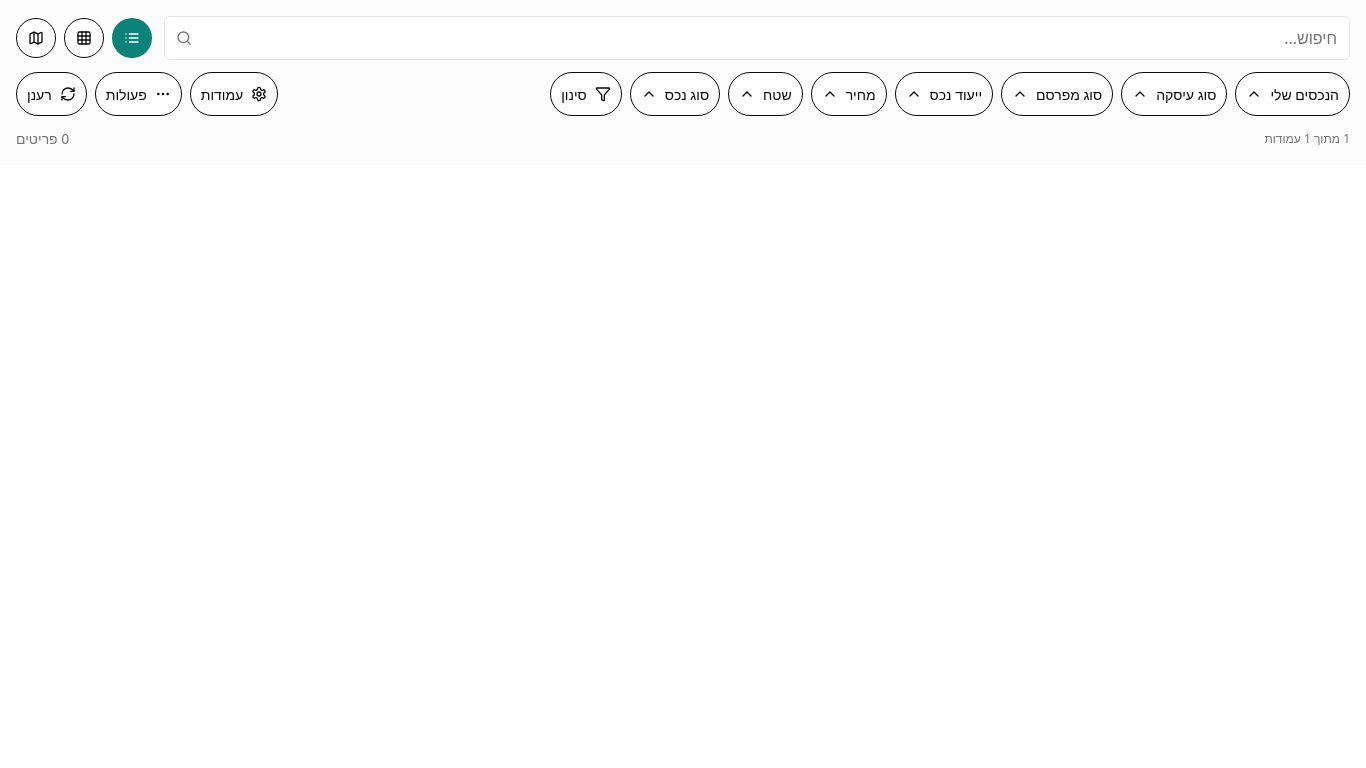
Test: TableToolbar quick filters › organizes the full filters into guided sections
Click the button "סינון".
click(586, 94)  # box [550,72,622,116]
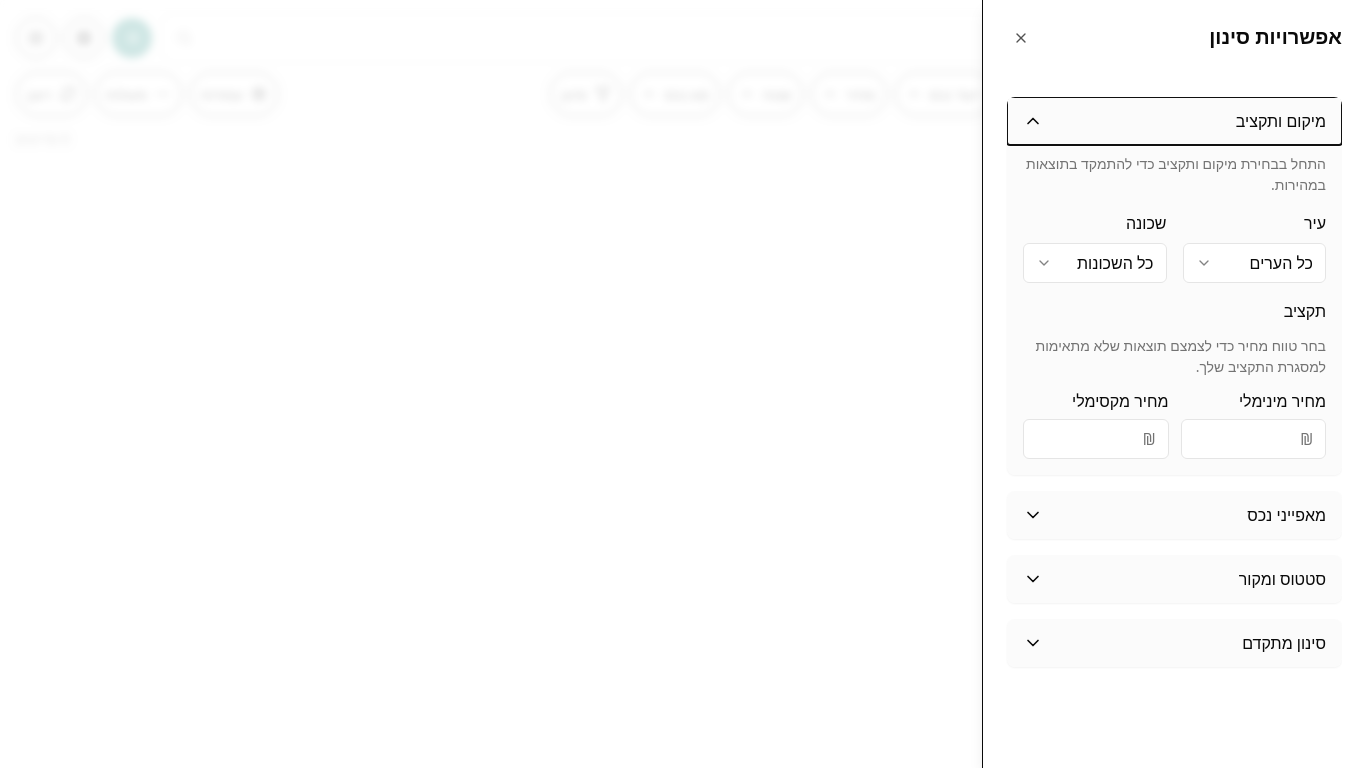
Expected: the text "עיר" is shown, [1304,212,1326,234]
Expected: the number field labelled "מחיר מינימלי" is shown, [1180,419,1326,459]
Expected: the text "שכונה" is shown, [1126,212,1166,234]
Click the button "מאפייני נכס".
click(1287, 515)  # box [1007,491,1342,539]
(page scrolled)
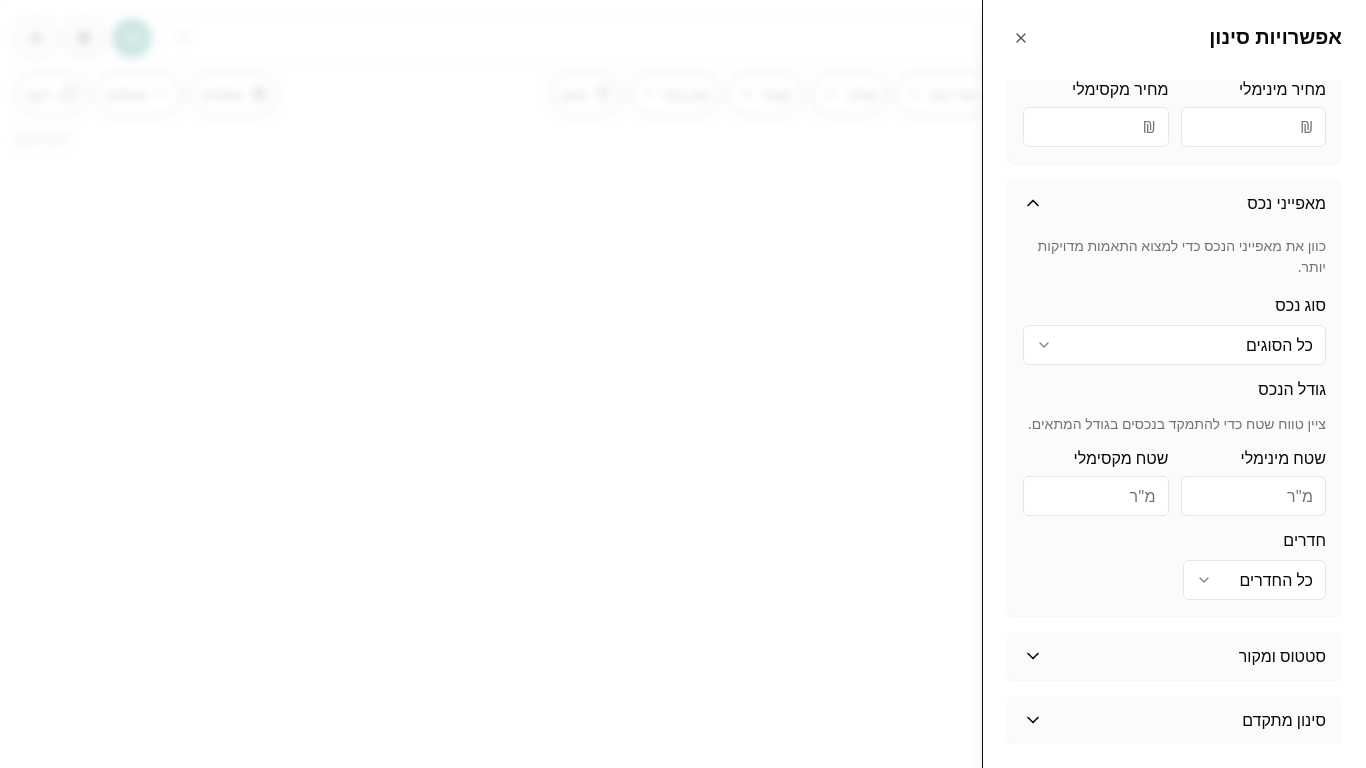
Expected: the button "מאפייני נכס" is expanded, [1007,179,1342,227]
Expected: the text "חדרים" is shown, [1283,529,1326,551]
Click the button "סטטוס ומקור".
click(1282, 656)  # box [1007,632,1342,680]
(page scrolled)
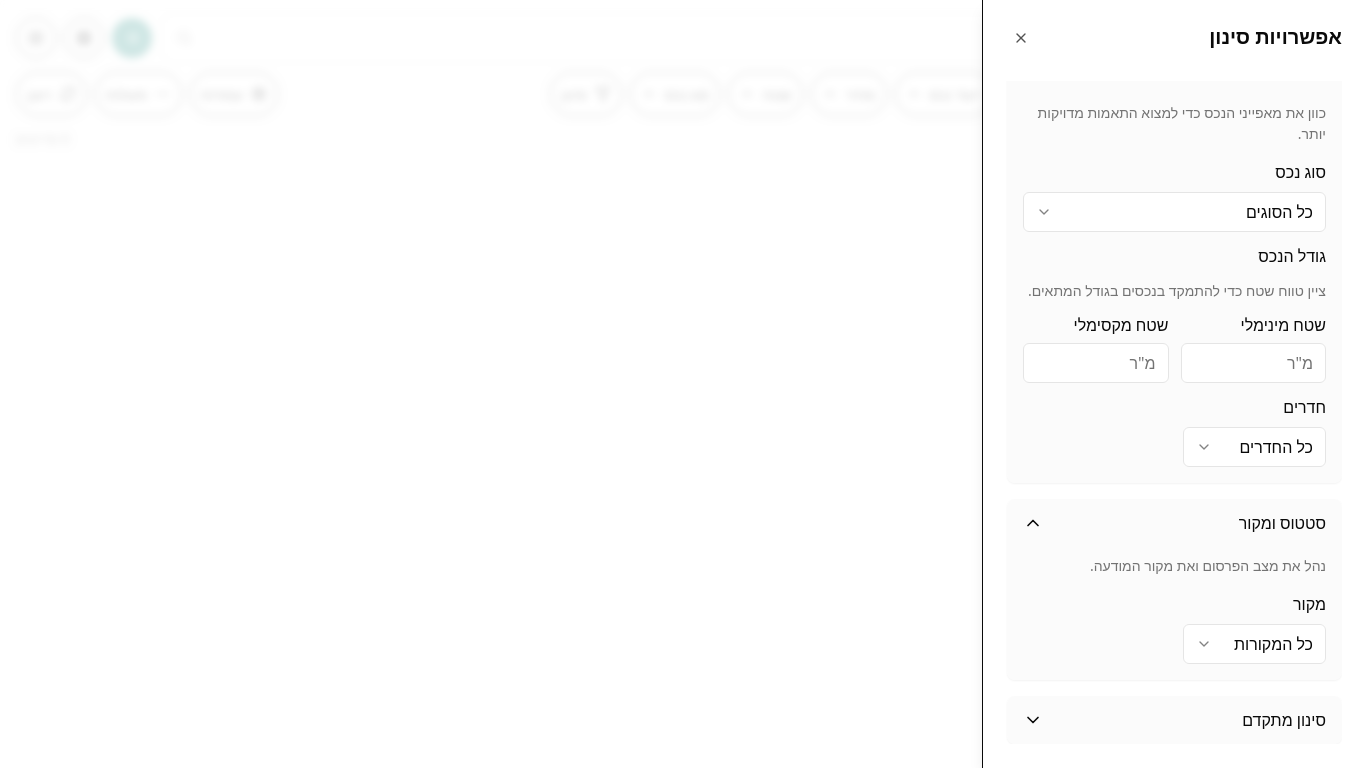
Expected: the button "סטטוס ומקור" is expanded, [1007,499,1342,547]
Expected: the text "מקור" is shown, [1293,593,1326,615]
Click the button "סינון מתקדם".
click(1284, 720)  # box [1007,696,1342,744]
(page scrolled)
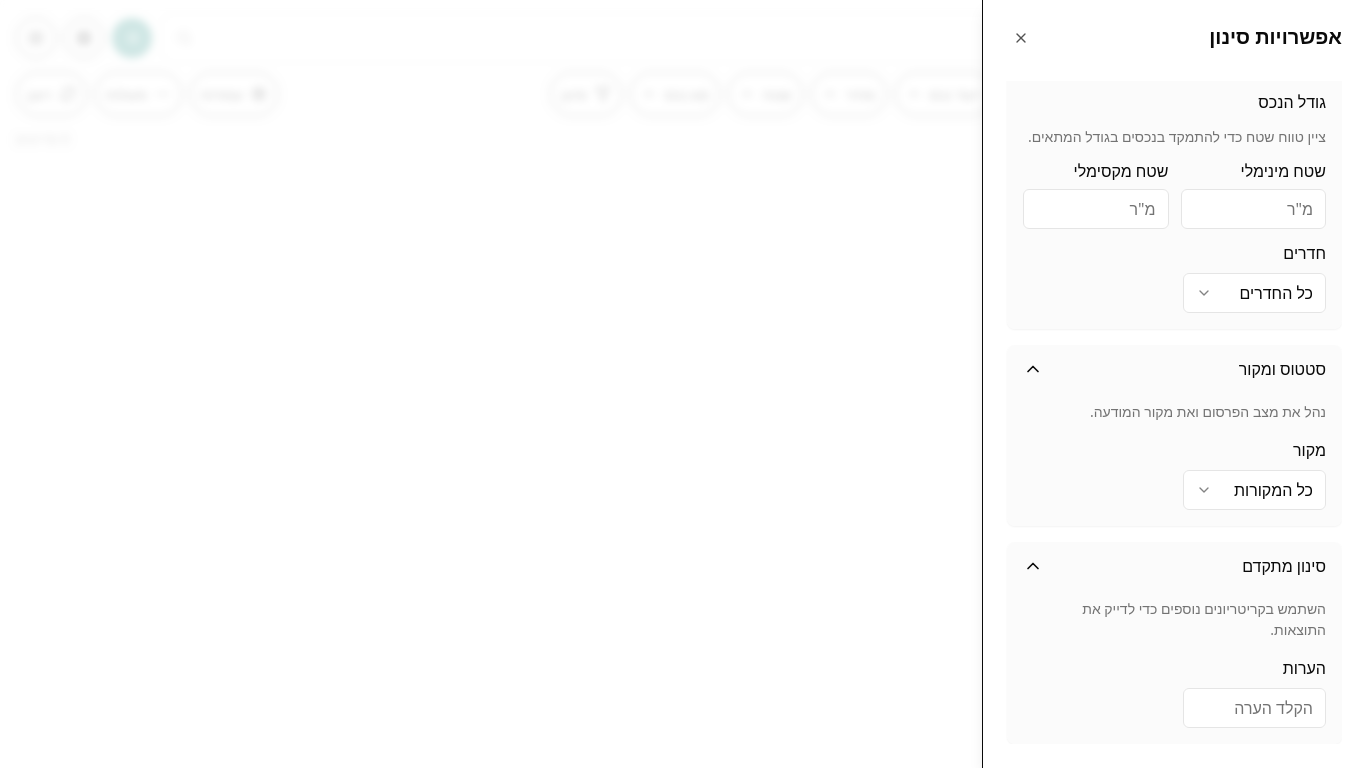
Expected: the button "סינון מתקדם" is expanded, [1007,542,1342,590]
Expected: the field with placeholder "הקלד הערה" is shown, [1182,688,1326,728]
